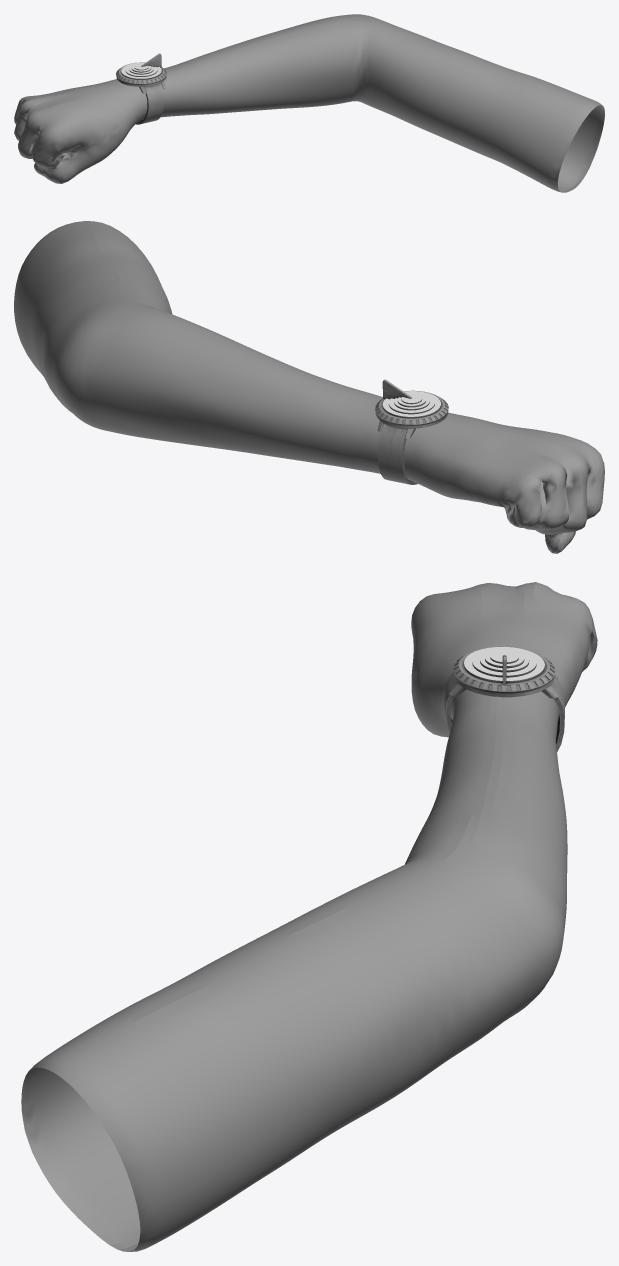
File: SM_Arm_Sundial.fbx
3 views of the same model, one above another, from view 1: azimuth 30°, elevation 25°; view 2: azimuth 150°, elevation 25°; view 3: azimuth 270°, elevation 25° (orthographic). The views are drawn at different scales.
Parts seen in each view (by area): view 1: SunDial; view 2: SunDial; view 3: SunDial.
Part boxes in pixels (bbox=[...]): SunDial: bbox=[14, 14, 604, 192]; SunDial: bbox=[14, 221, 604, 553]; SunDial: bbox=[21, 582, 597, 1251].
Bounding box in the file's own units: 83.16 × 22.73 × 42.42.
